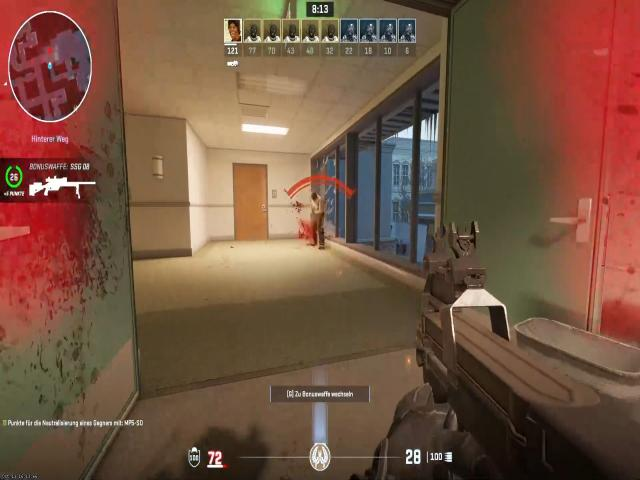T: (308, 188, 325, 233)
T-Head: (308, 189, 321, 207)
